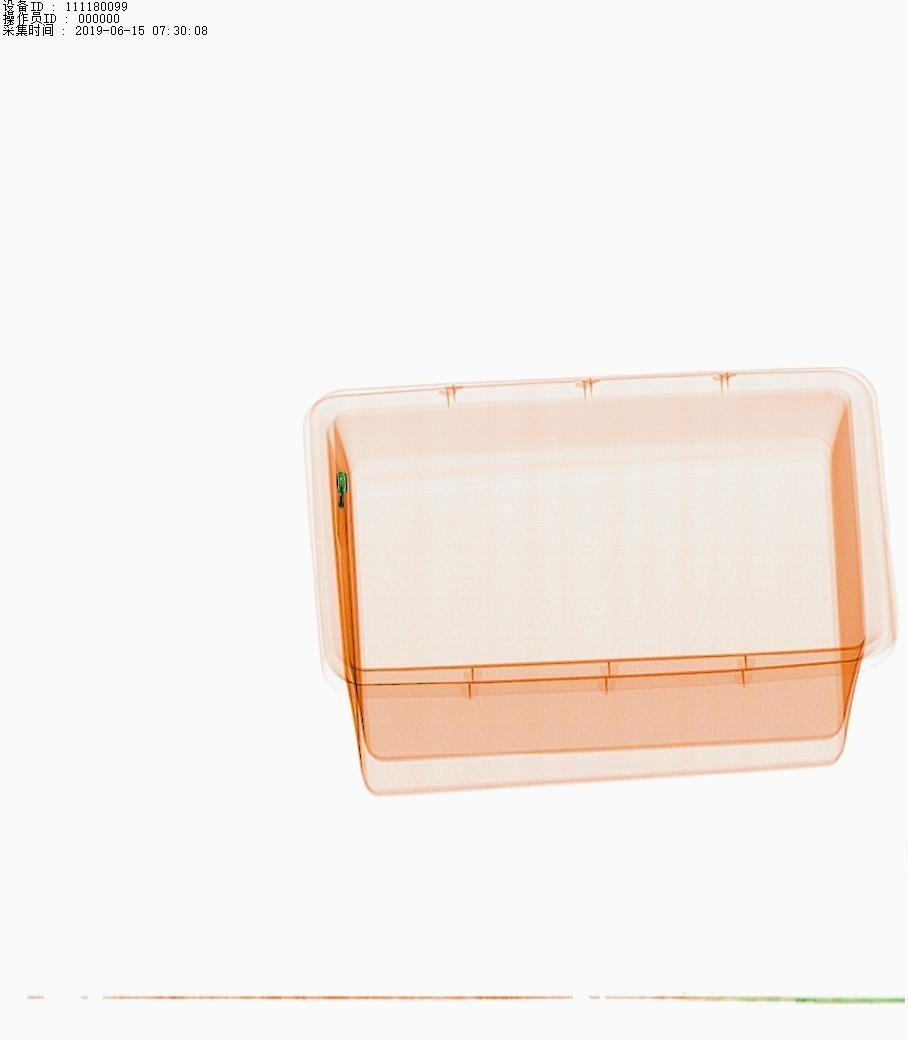NonmetallicFire: (320, 456, 360, 568)
